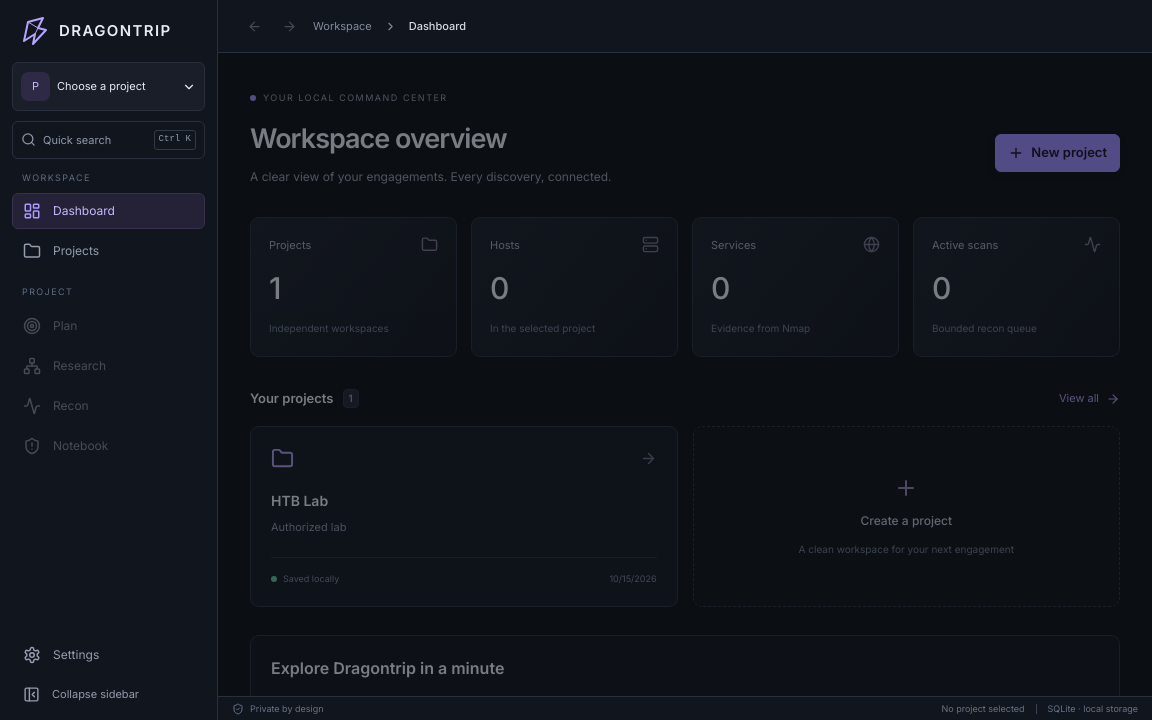
Test: workspace › creates a project through the API and navigates to it
Check: the heading "Workspace overview" is shown, box left=250, top=121, right=507, bottom=154
Click the button "New project".
click(1058, 152)  # box left=995, top=134, right=1120, bottom=171
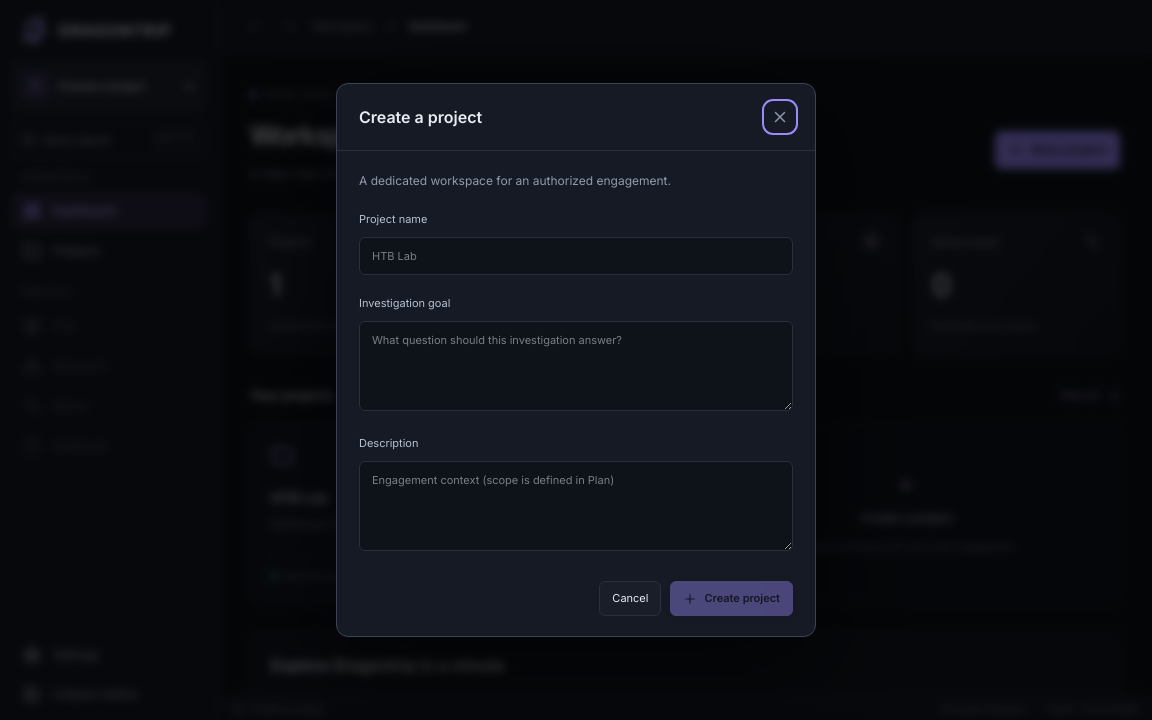
Type "My Lab" into the field labelled "Project name".
click(576, 256); type("My Lab")  # box left=359, top=237, right=793, bottom=275
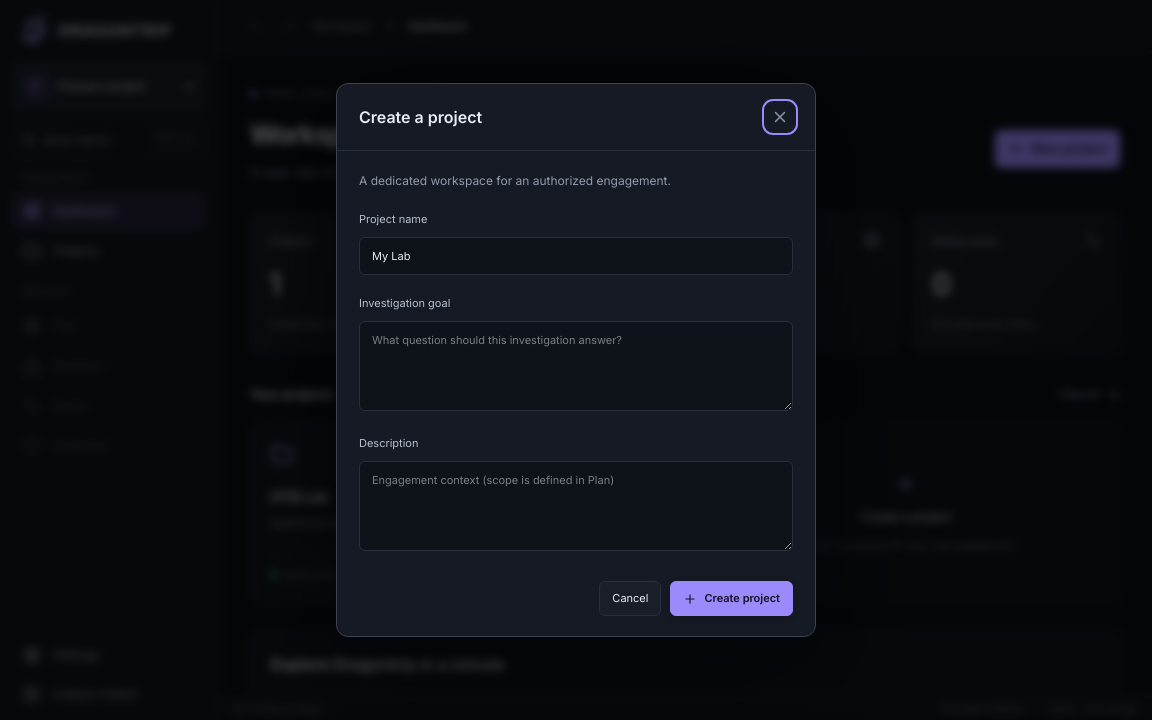
Click the button "Create project".
click(732, 599)  # box left=670, top=581, right=793, bottom=616
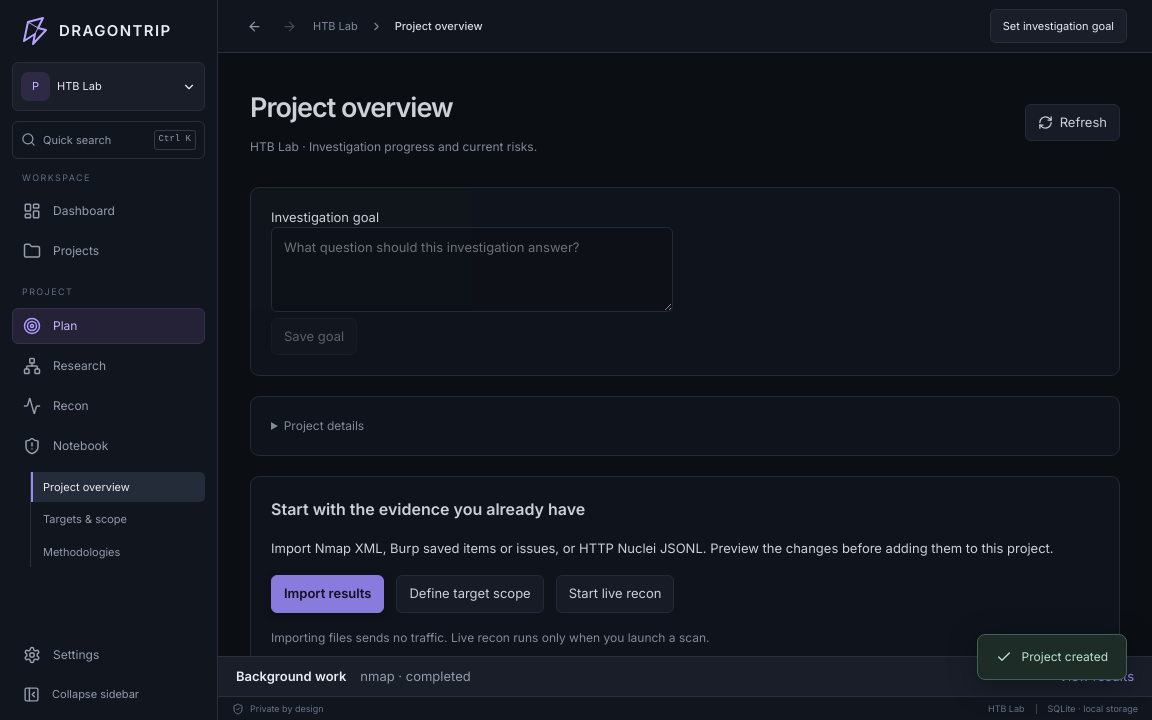
Check: the heading "Start with the evidence you already have" is shown, box left=271, top=499, right=585, bottom=519
